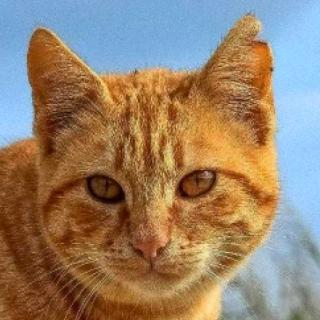cat: (20, 26, 278, 305)
nose: (128, 214, 182, 268)
